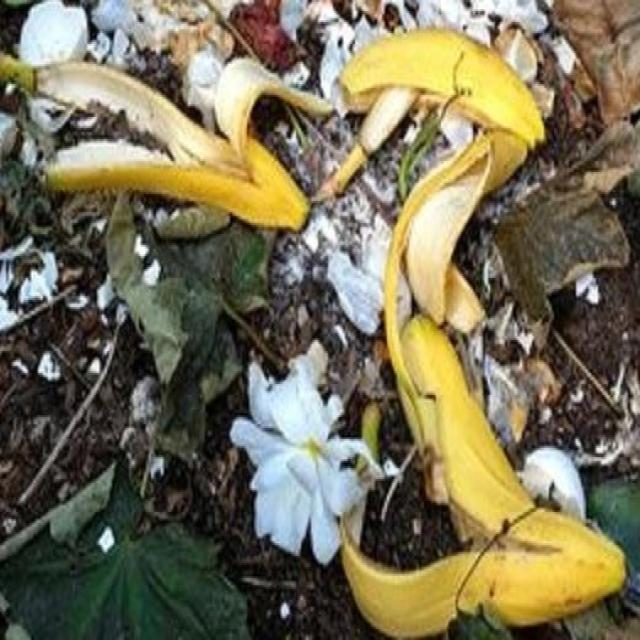Wet Waste: (308, 26, 629, 638), (1, 36, 338, 240)
